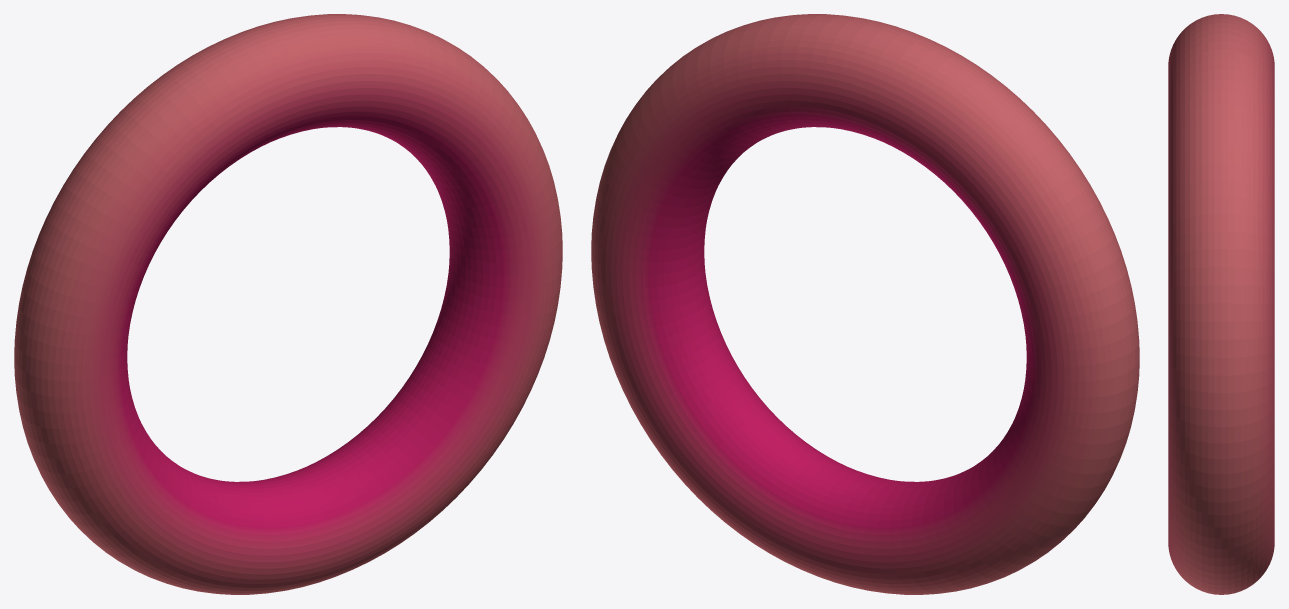
The picture shows the model from 3 angles, left to right: view 1: azimuth 30°, elevation 25°; view 2: azimuth 150°, elevation 25°; view 3: azimuth 270°, elevation 25°; orthographic projection. The views are drawn at different scales.
Parts seen in each view (by area): view 1: world; view 2: world; view 3: world.
Part boxes in pixels (left/top/right/bottom): world: left=14, top=14, right=562, bottom=594; world: left=591, top=14, right=1139, bottom=594; world: left=1168, top=14, right=1274, bottom=594.
Size of the model in its own units: 19.6 by 19.6 by 3.59.
